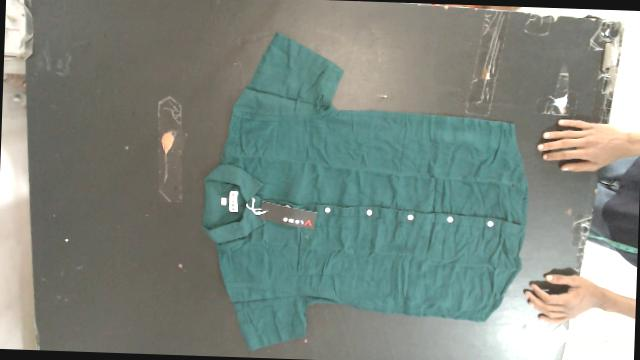new-garment: (203, 33, 528, 349)
